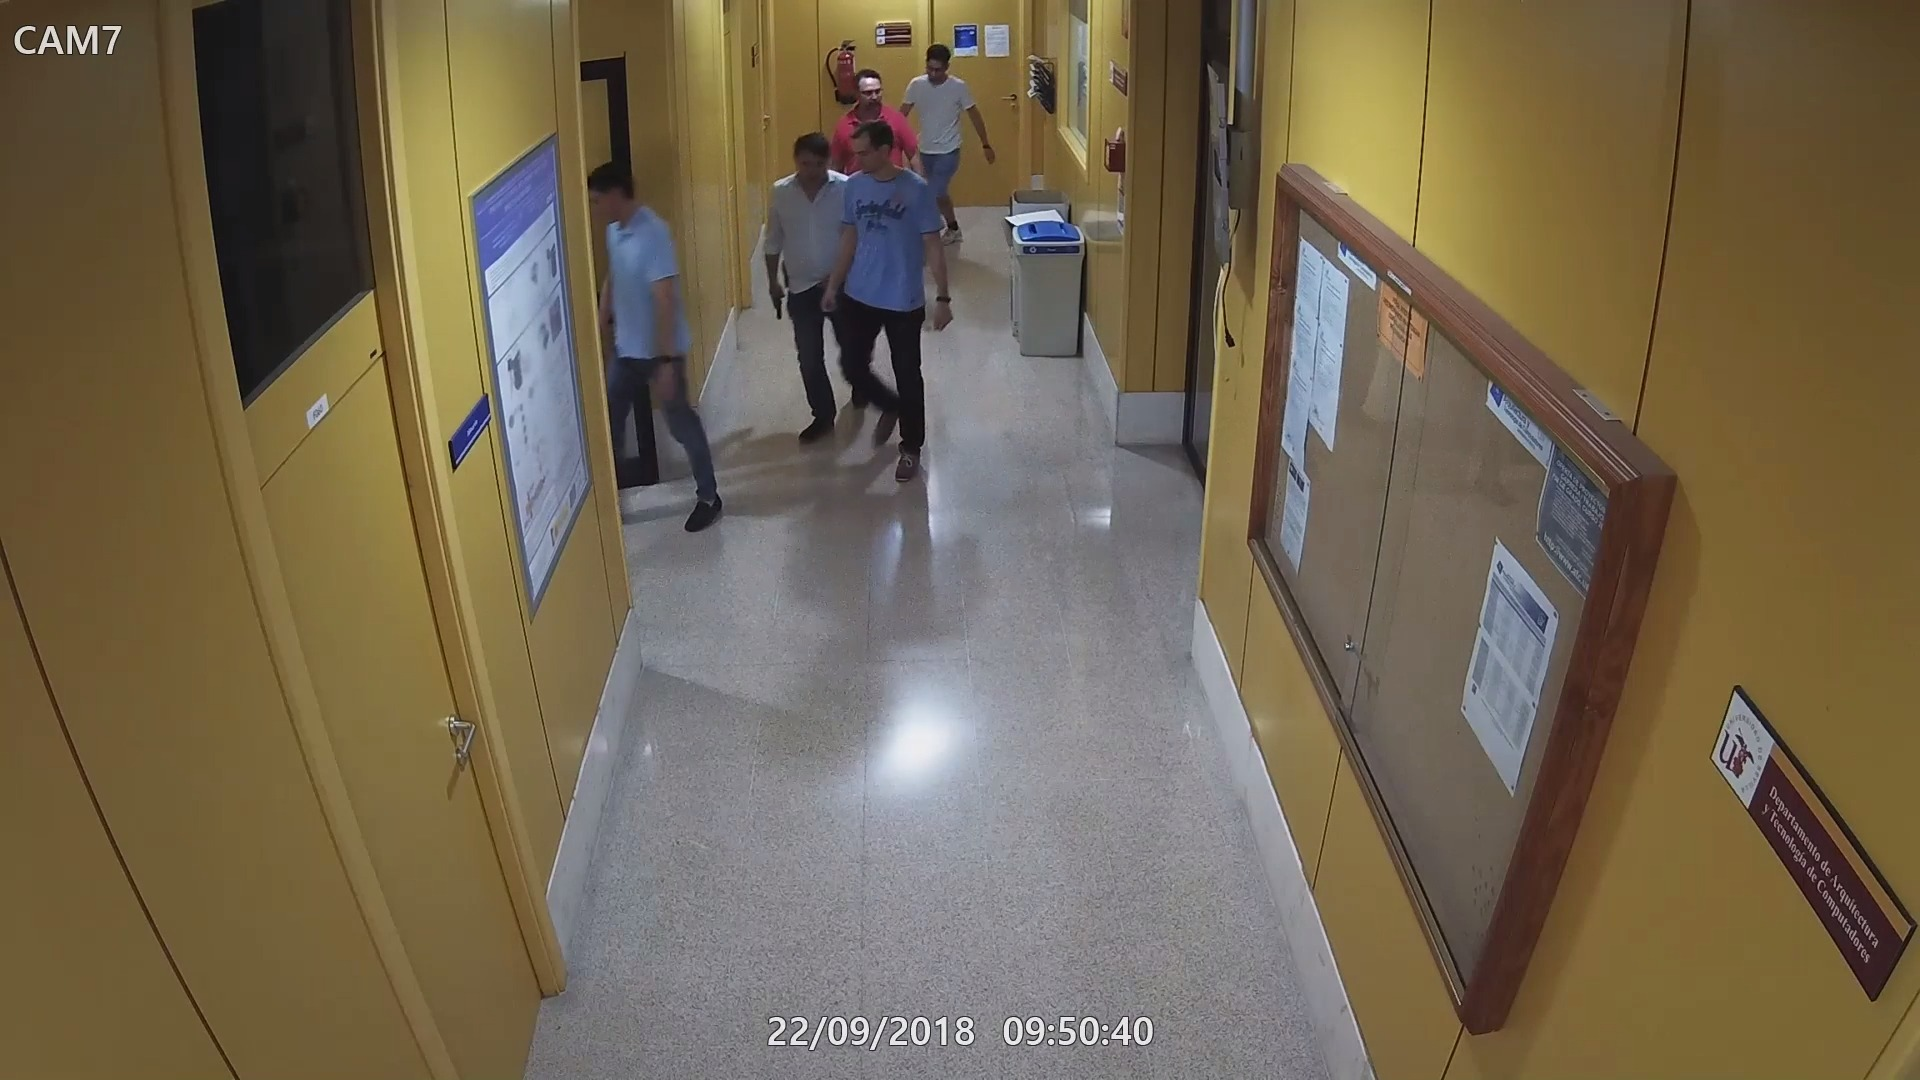Handgun: (767, 280, 787, 323)
